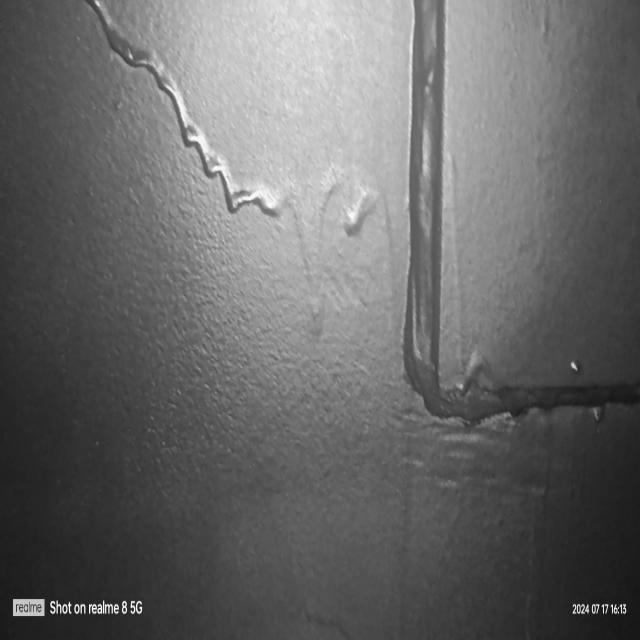paint drips: (82, 0, 398, 348), (558, 344, 589, 386), (590, 407, 609, 434)
